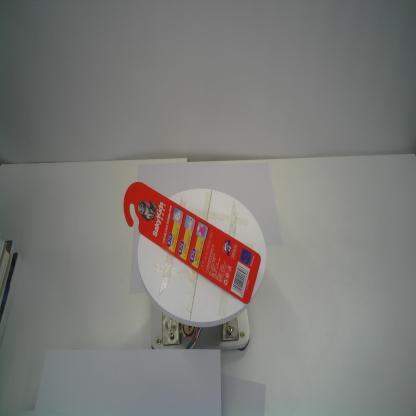Personal Hygiene: (123, 181, 261, 306)
